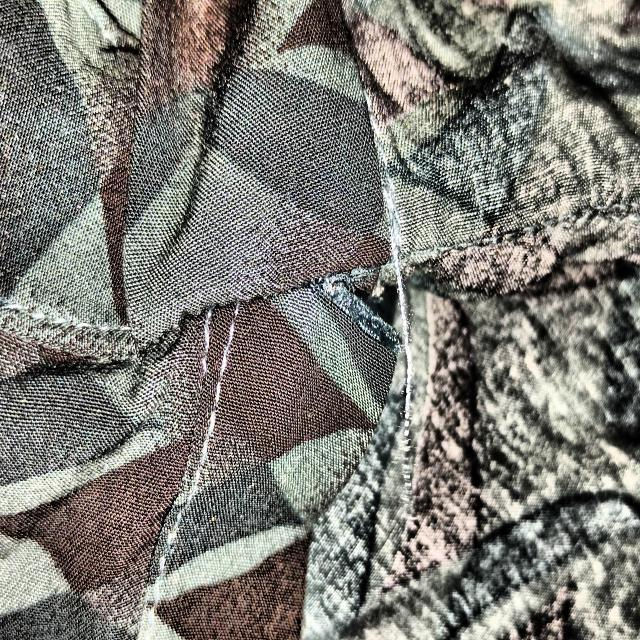gray stitch: (308, 194, 454, 522)
